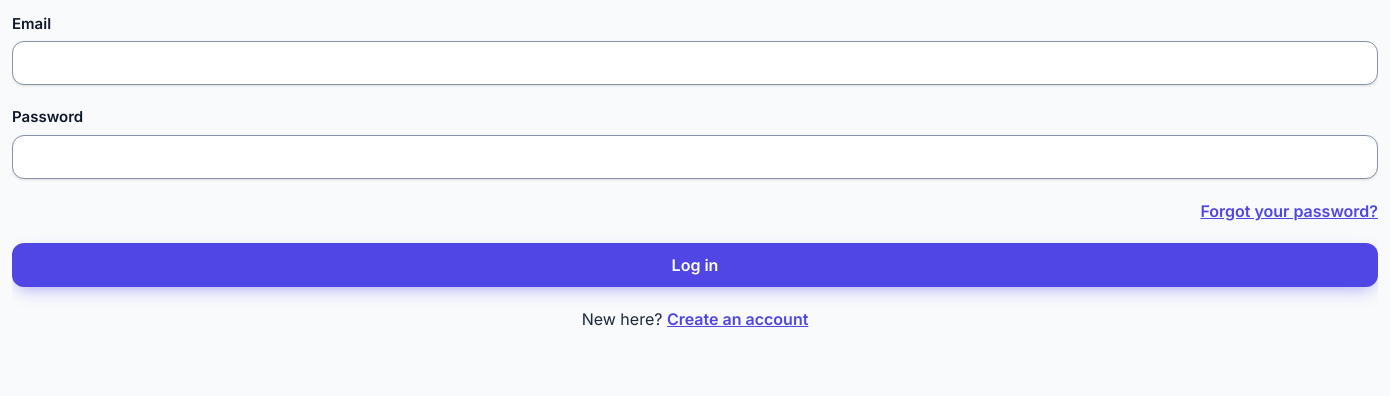
Test case: LogInForm › requires email and password
The width and height of the screenshot is (1390, 396).
Click the button with test id "login-submit-button".
click(695, 264)  # box [12, 242, 1378, 286]
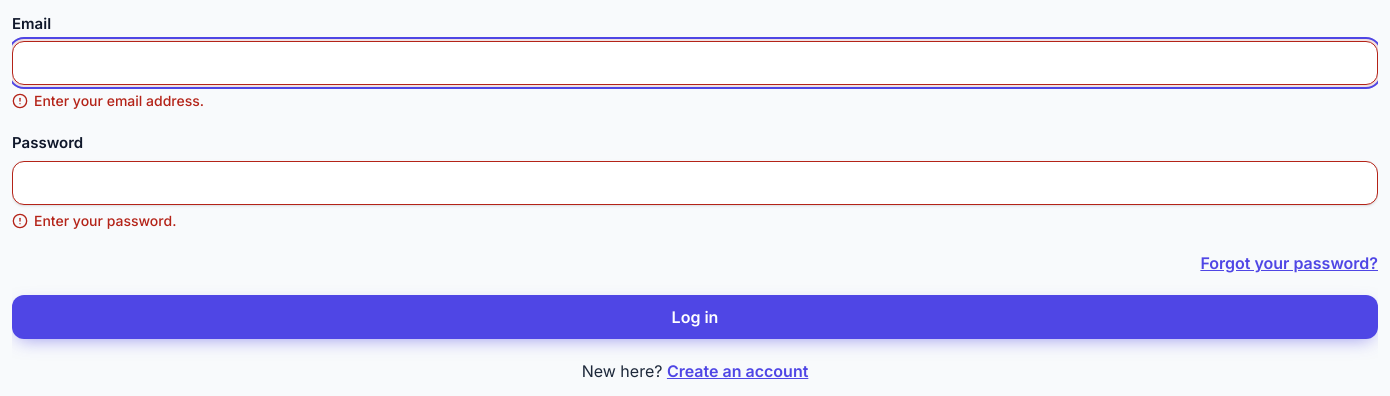
Check: the text "Enter your password." is shown, box [34, 210, 176, 230]
